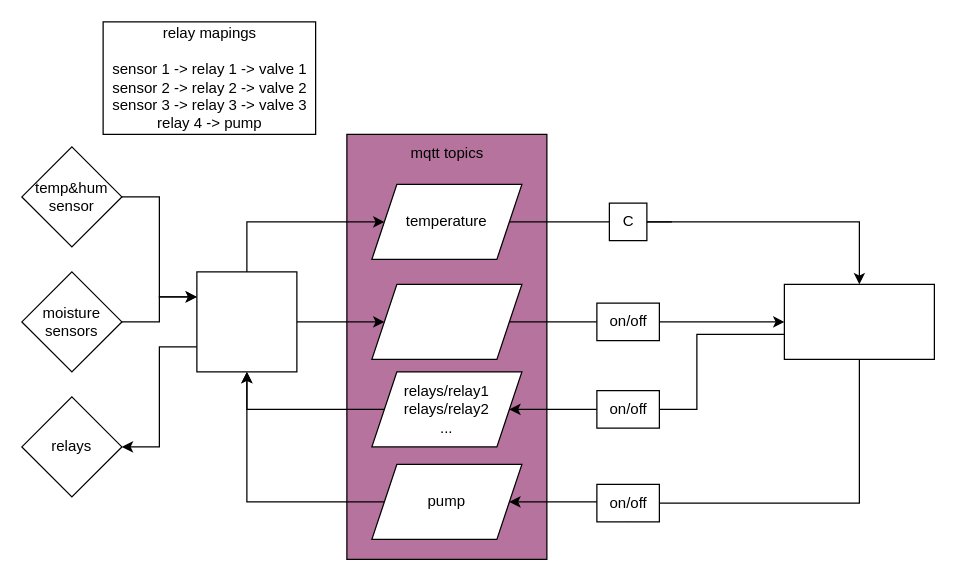
The diagram is 956 pixels wide and 581 high, and some of its shapes have lost their labels. Here are the shapes that lost their labels. From the top down, the box of each, then its label:
(196, 271, 297, 372): rpi pico
(371, 283, 522, 359): moisture/sensor1 moisture/sensor2 ...
(783, 283, 934, 359): home assistant
